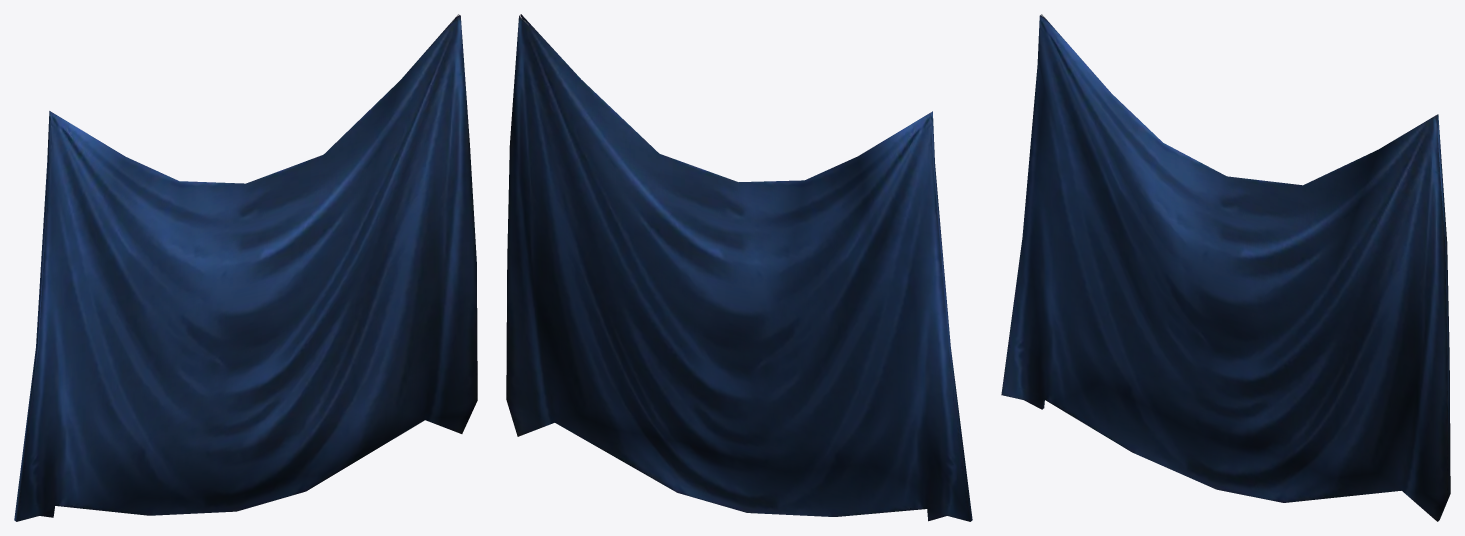
The model's file is KM_VOB_CURTAIN_04.glb.
3 views of the same model, side by side, from view 1: azimuth 30°, elevation 25°; view 2: azimuth 150°, elevation 25°; view 3: azimuth 330°, elevation 25° (orthographic). The views are drawn at different scales.
Parts seen in each view (by area): view 1: Mesh; view 2: Mesh; view 3: Mesh.
Boxes of the visible parts, bbox=[...] form: Mesh: bbox=[14, 14, 477, 521]; Mesh: bbox=[506, 14, 972, 521]; Mesh: bbox=[1001, 14, 1450, 521].
Size of the model in its own units: 2.39 by 2.2 by 0.081.
1 material, 1 textured.
